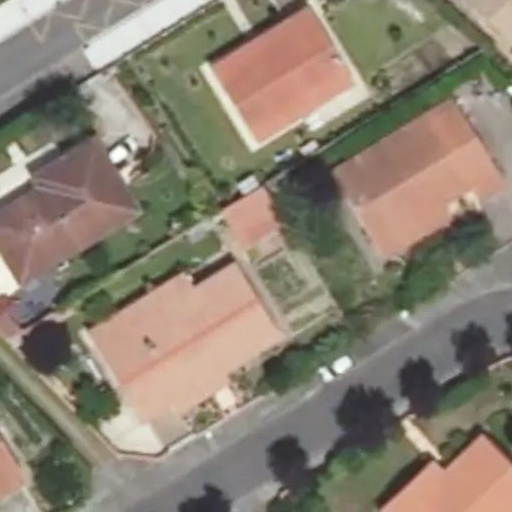pool: (233, 234, 275, 240)
